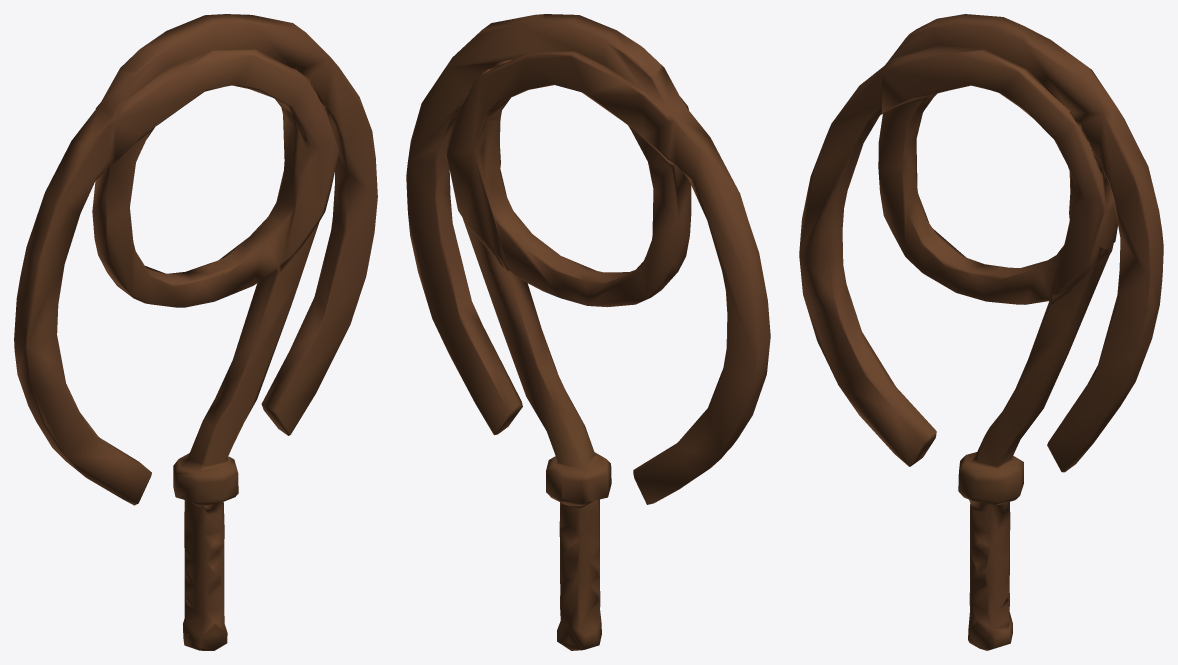
File: gen3d-whip-lod1.glb
3 views of the same model, side by side, from view 1: azimuth 30°, elevation 25°; view 2: azimuth 150°, elevation 25°; view 3: azimuth 330°, elevation 25° (orthographic).
Visible parts, largest first — view 1: part_0; view 2: part_0; view 3: part_0.
Part boxes in pixels (x1,y1,x2,y2): part_0: [14, 14, 377, 650]; part_0: [406, 14, 770, 650]; part_0: [799, 14, 1163, 650].
Bounding box in the file's own units: 0.5882 × 0.9985 × 0.0992.
